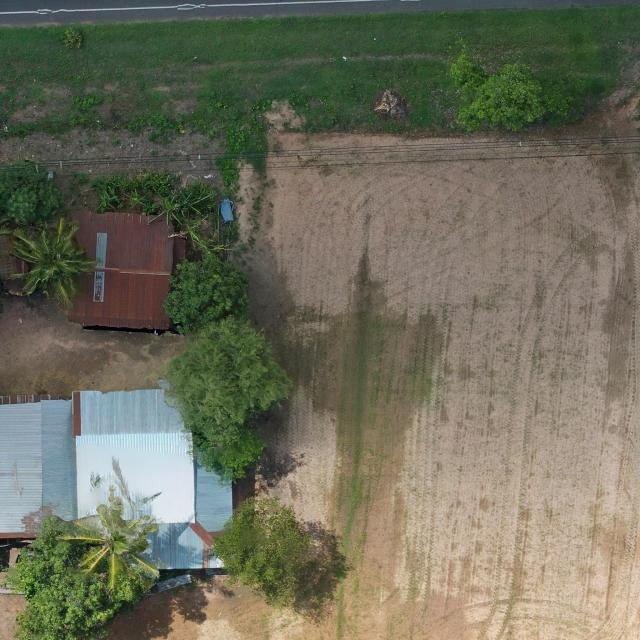banana_tree: (146, 191, 217, 230), (168, 222, 226, 256), (123, 190, 155, 212), (95, 188, 122, 214)
tree: (161, 315, 301, 483), (13, 512, 142, 640), (56, 484, 163, 595), (215, 492, 311, 611), (450, 40, 546, 134), (6, 218, 103, 309), (160, 254, 252, 335), (0, 160, 67, 228)
